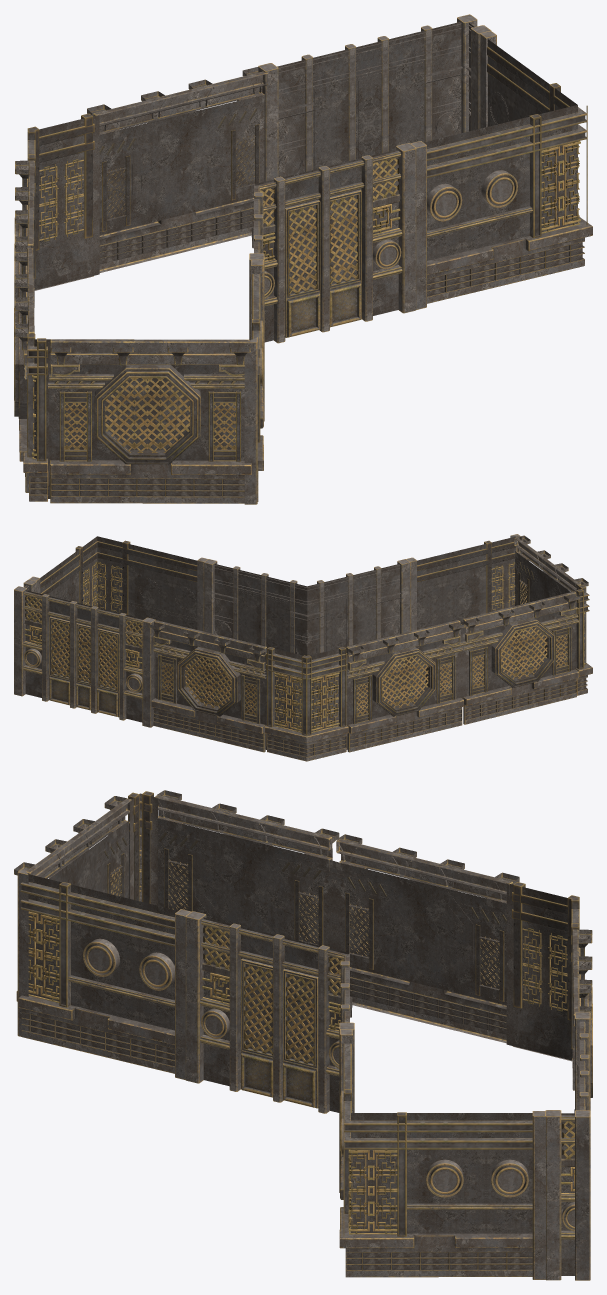
File: SM_FloorSet_V8.FBX
3 views of the same model, one above another, from view 1: azimuth 30°, elevation 25°; view 2: azimuth 150°, elevation 25°; view 3: azimuth 270°, elevation 25° (orthographic). The views are drawn at different scales.
Parts seen in each view (by area): view 1: SM_FloorSet_V8; view 2: SM_FloorSet_V8; view 3: SM_FloorSet_V8.
Boxes of the visible parts, bbox=[...] form: SM_FloorSet_V8: bbox=[14, 14, 592, 504]; SM_FloorSet_V8: bbox=[14, 534, 592, 761]; SM_FloorSet_V8: bbox=[14, 790, 592, 1280].
Size of what is drawn, in the model's own units: 1738 by 1283 by 400.
